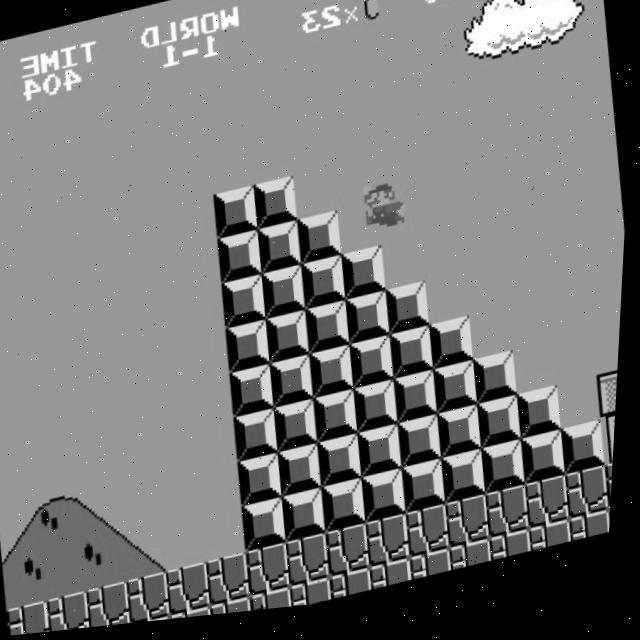11- little_mario: (363, 182, 414, 241)
14- pipe: (604, 426, 621, 478)
15- pipe_head: (599, 382, 622, 433)
17- undestructible_block: (329, 531, 379, 586), (568, 478, 617, 533), (489, 496, 538, 551), (409, 513, 458, 568), (369, 522, 418, 577), (290, 539, 339, 594), (250, 548, 299, 603), (210, 557, 259, 612), (170, 566, 219, 621), (529, 487, 578, 541), (449, 505, 498, 559), (130, 574, 179, 627), (91, 584, 140, 630), (51, 592, 99, 634), (12, 600, 60, 637), (454, 549, 499, 581), (415, 558, 460, 590), (335, 575, 380, 607), (534, 532, 579, 563), (494, 541, 539, 572), (375, 567, 420, 598), (573, 523, 617, 554), (295, 584, 340, 614), (255, 593, 300, 617), (216, 602, 261, 620), (176, 611, 220, 624)
9- hard_block: (280, 450, 330, 505), (444, 460, 494, 514), (395, 379, 445, 433), (564, 433, 613, 488), (520, 397, 569, 452), (480, 406, 529, 461), (484, 450, 533, 505), (431, 325, 480, 380), (391, 334, 440, 389), (400, 424, 449, 479), (405, 468, 454, 523), (342, 253, 391, 308), (351, 343, 400, 398), (365, 477, 414, 532), (298, 217, 347, 272), (303, 262, 352, 317), (311, 352, 360, 407), (321, 441, 370, 496), (325, 486, 374, 541), (258, 226, 307, 281), (262, 271, 311, 326), (285, 494, 334, 549), (218, 235, 267, 290), (223, 280, 272, 335), (232, 369, 281, 424), (241, 459, 290, 514), (245, 503, 294, 558), (524, 442, 573, 496), (475, 361, 524, 415), (435, 370, 484, 424), (440, 415, 489, 469), (387, 289, 436, 343), (346, 298, 395, 352), (356, 388, 405, 442), (360, 433, 409, 487), (307, 307, 356, 361), (316, 397, 365, 451), (267, 316, 316, 370), (272, 361, 321, 415), (214, 190, 263, 244), (227, 325, 276, 379), (236, 414, 285, 468), (254, 182, 303, 235), (276, 406, 325, 459)
